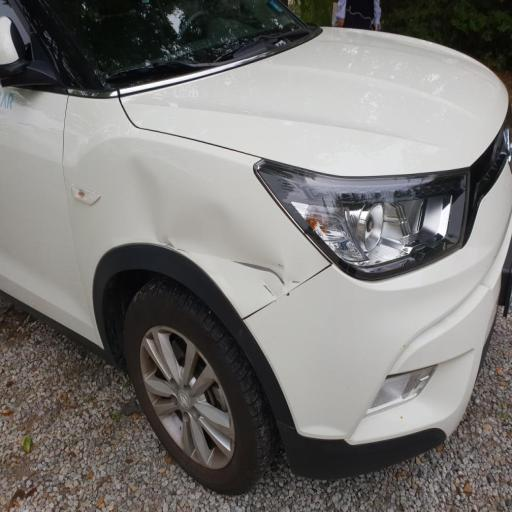broken: (215, 221, 317, 329)
dent: (158, 178, 317, 325)
